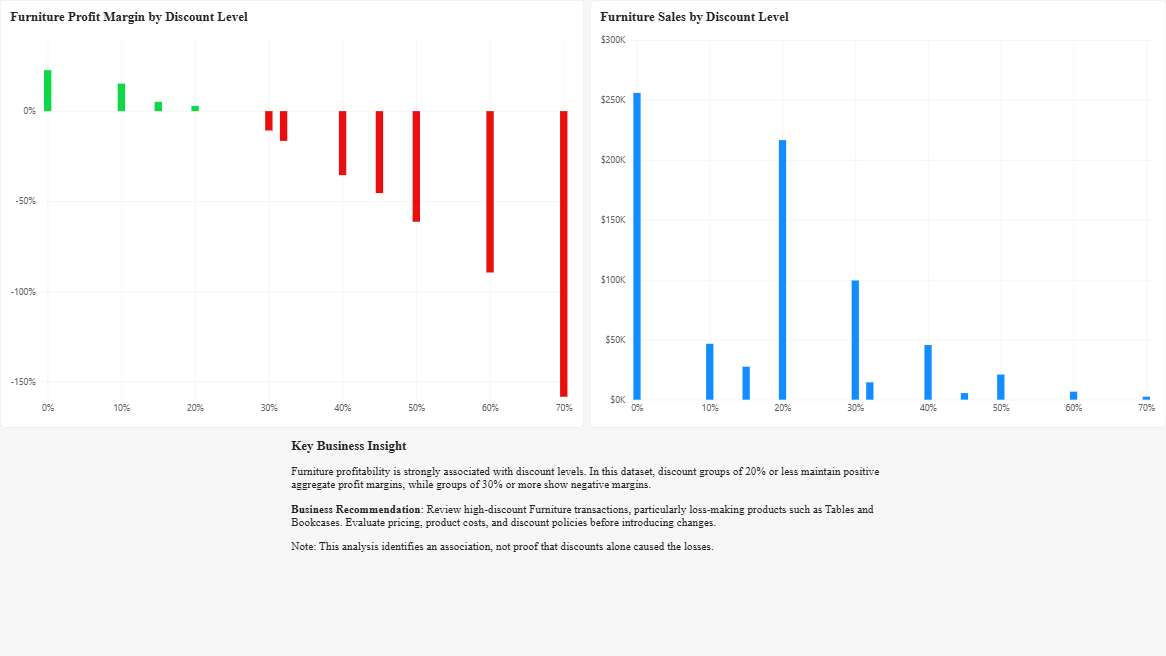

Layout of this report page (visuals, bound fields, positions):
{"tool":"powerbi","page":{"name":"Discount & Profitability Analysis","canvas":[1920,1080],"ordinal":2},"visuals":[{"type":"clusteredColumnChart","title":"Furniture Profit Margin by Discount Level","fields":{"Category":["Orders.Discount"],"Y":["Orders.Profit Margin"]},"box":[0,0,961.2,703.9],"z":0},{"type":"clusteredColumnChart","title":"Furniture Sales by Discount Level","fields":{"Category":["Orders.Discount"],"Y":["Orders.Total Sales"]},"box":[971.5,0,948.9,703.9],"z":1},{"type":"textbox","box":[479.6,703.9,1002.4,374.6],"z":2}]}

Visuals, with their boxes in screenshot pixels (x1, y1, x2, y2), scaled from the page's 1920x1080 canvas onto the 1166x656 screenshot:
"Furniture Profit Margin by Discount Level" clusteredColumnChart: rect(0, 0, 584, 428)
"Furniture Sales by Discount Level" clusteredColumnChart: rect(590, 0, 1165, 428)
textbox: rect(291, 428, 900, 655)
